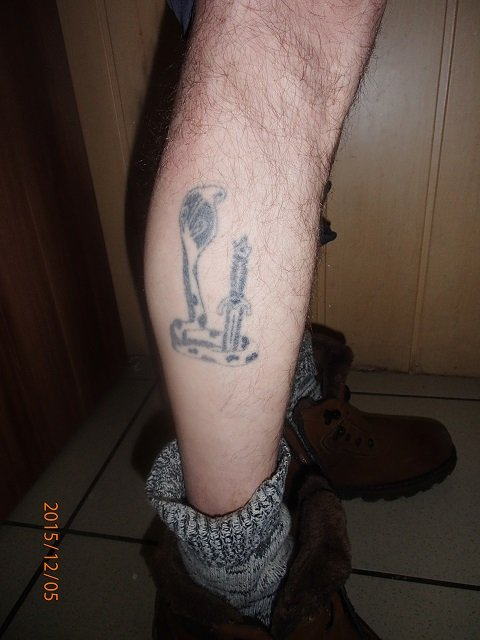tatu7_zmeya: (149, 163, 285, 390)
